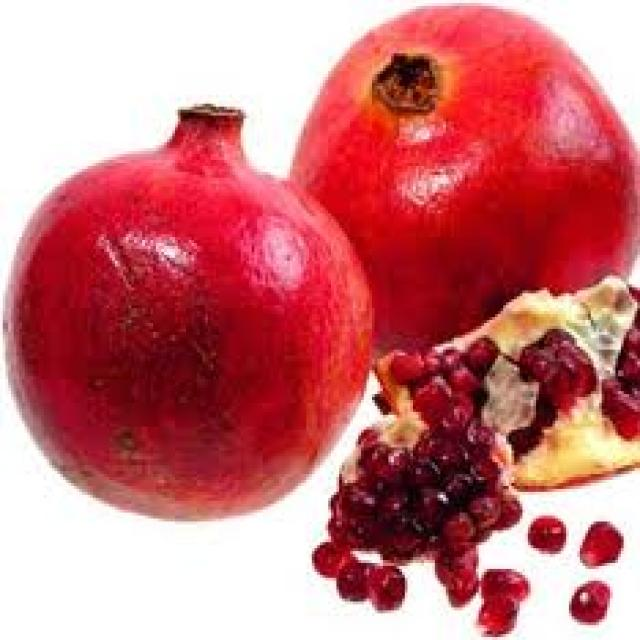pomegranate: (3, 0, 637, 634)
